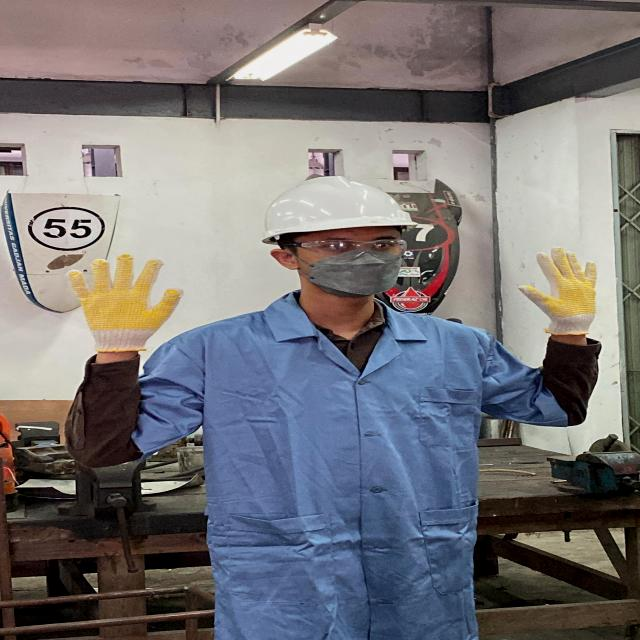face_mask: (296, 229, 409, 297)
glasses: (275, 236, 412, 262)
hand_glove: (66, 254, 186, 347), (510, 247, 612, 324)
head_helmet: (257, 174, 425, 242)
person: (53, 171, 616, 640)
